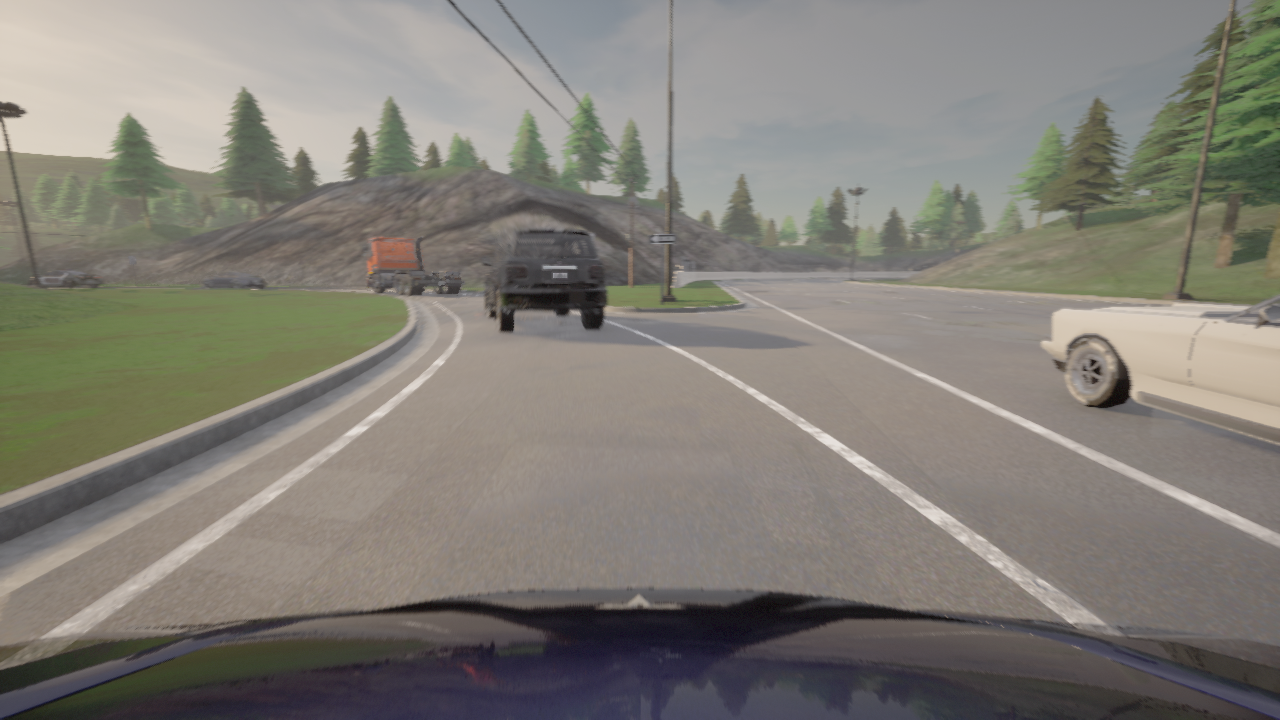cyclist: (0, 588, 1279, 719), (1040, 295, 1279, 444), (481, 228, 606, 332), (362, 236, 464, 295), (28, 269, 103, 287), (201, 271, 265, 288)
